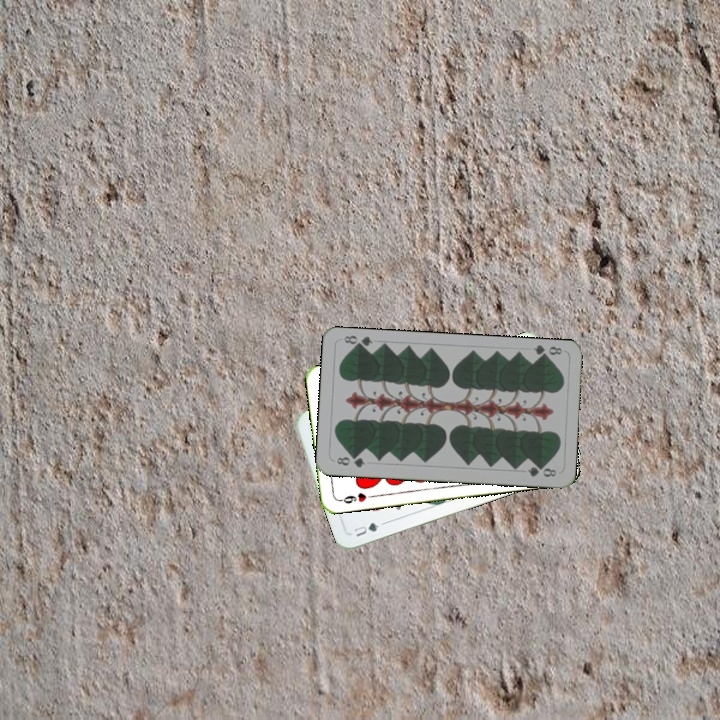G8: (530, 341, 564, 362), (332, 452, 368, 470)
GU: (350, 518, 382, 539)
H9: (335, 489, 376, 506)
